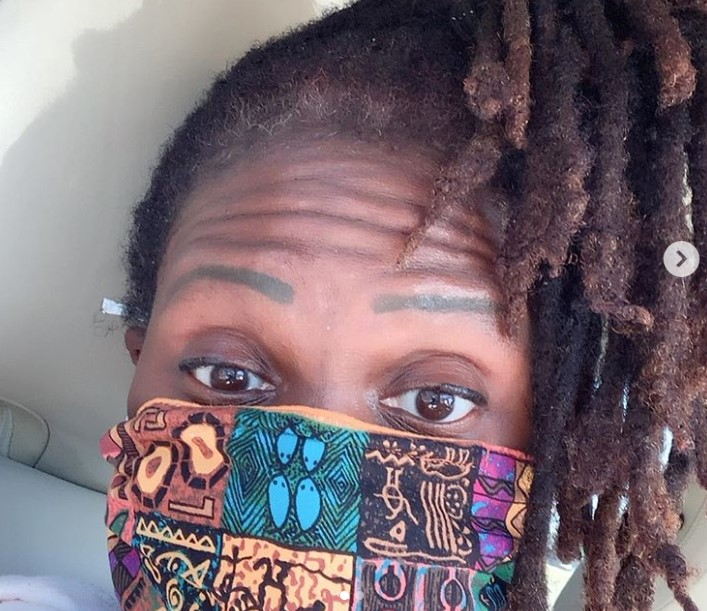face_with_mask: (100, 6, 658, 610)
